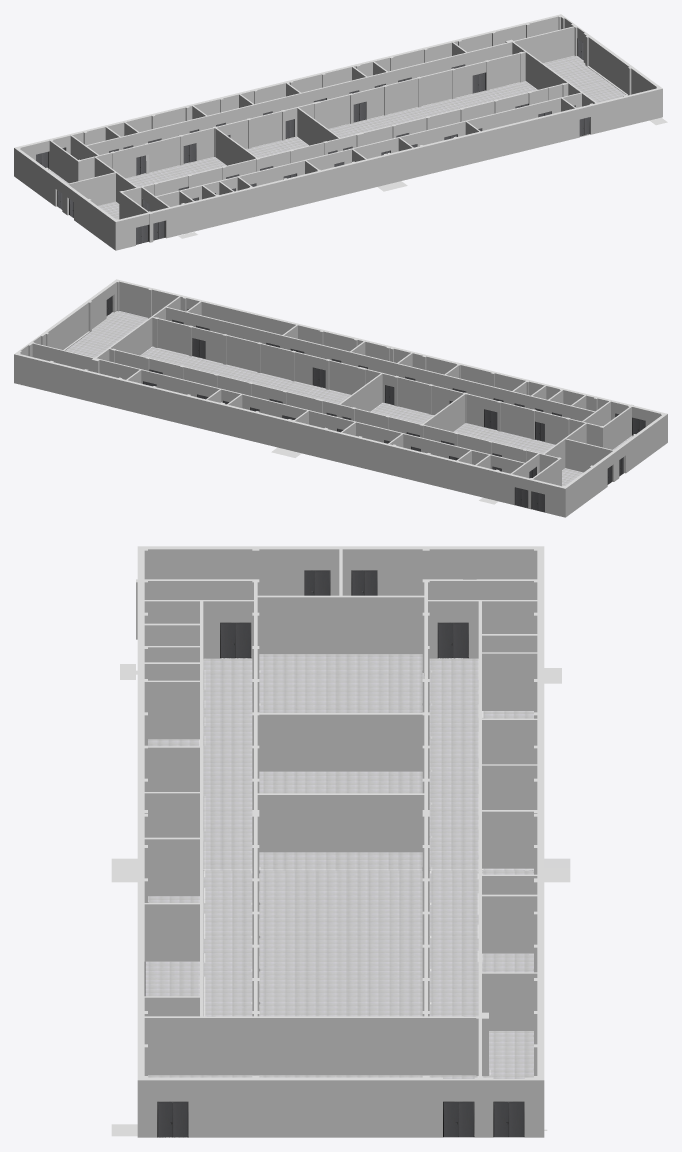
Rendered from Room8_121501.obj.
The picture shows the model from 3 angles, top to bottom: view 1: azimuth 30°, elevation 25°; view 2: azimuth 150°, elevation 25°; view 3: azimuth 270°, elevation 25°; orthographic projection. The views are drawn at different scales.
Visible parts, largest first — view 1: Room8; view 2: Room8; view 3: Room8.
Boxes of the visible parts, x1=… form: Room8: x1=14, y1=14, x2=667, y2=250; Room8: x1=14, y1=279, x2=667, y2=517; Room8: x1=111, y1=546, x2=570, y2=1137.
Size of the model in its own units: 72.4 by 3.62 by 26.29.
